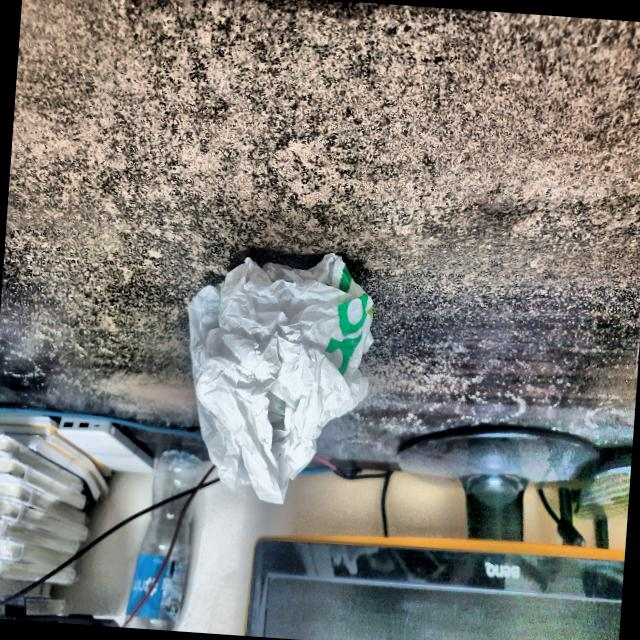plastic bag: (170, 232, 392, 511)
